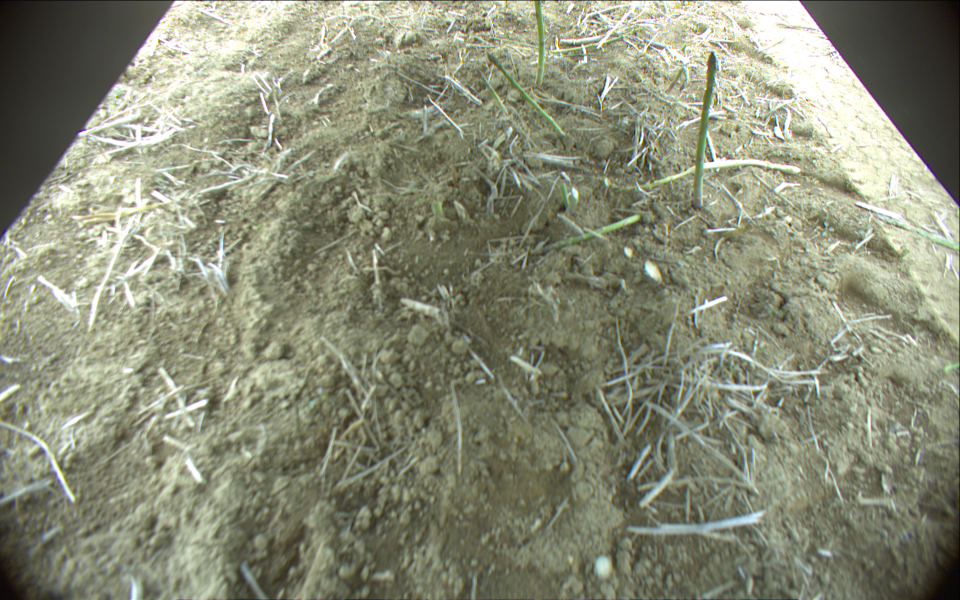aspa: (483, 48, 568, 139), (623, 156, 808, 189), (519, 213, 642, 259), (692, 52, 719, 208), (547, 27, 647, 53), (475, 68, 512, 116), (529, 1, 546, 87)
